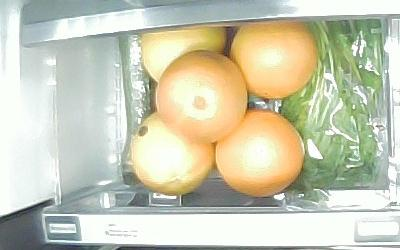grapefruit: (153, 50, 247, 141), (218, 110, 306, 200), (131, 112, 216, 198), (228, 20, 319, 99), (140, 25, 226, 81)
